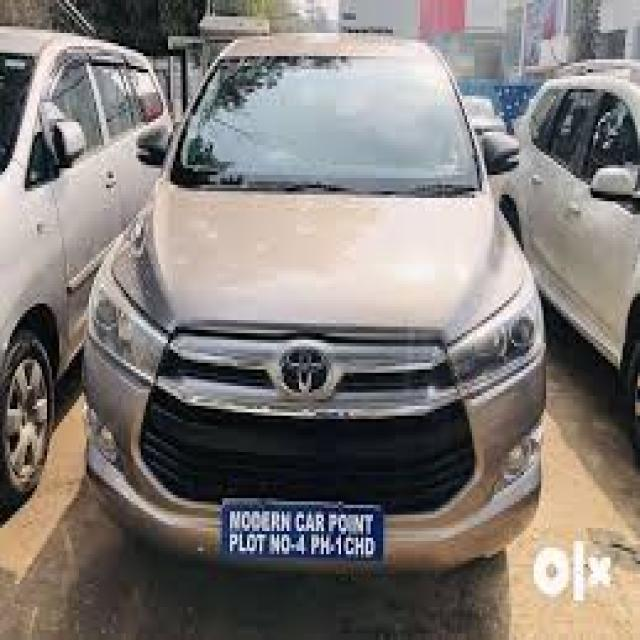light_vehicle: (82, 33, 546, 574), (0, 25, 174, 503), (497, 68, 640, 420)
